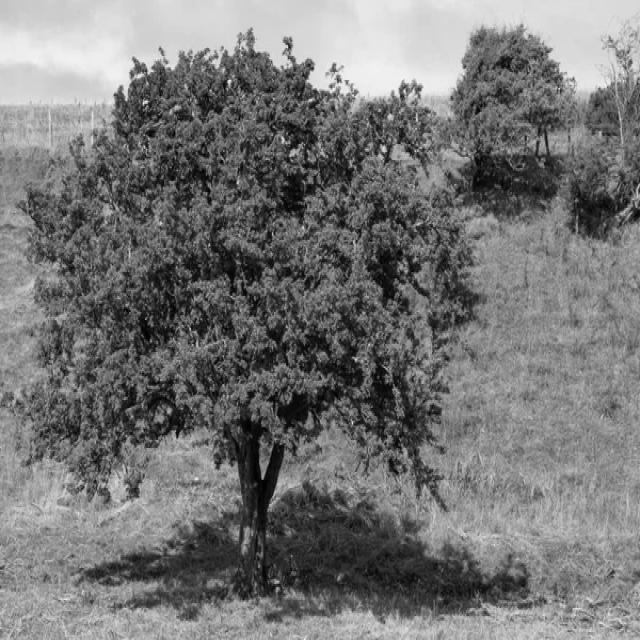Tree: (22, 30, 474, 598)
